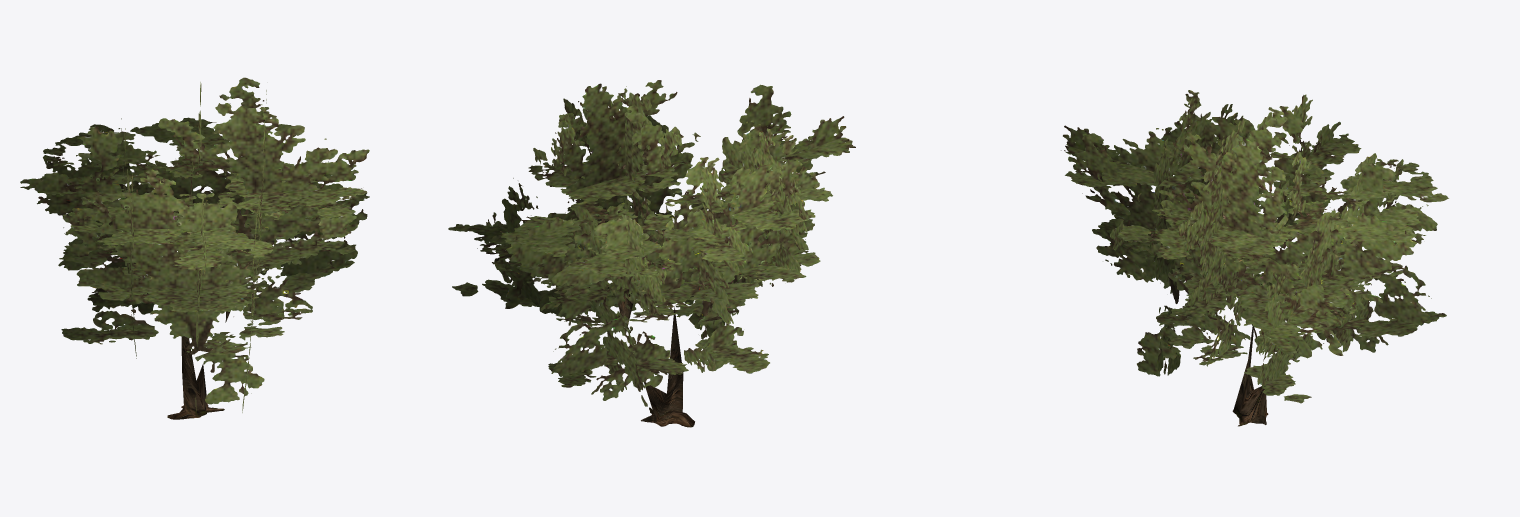
3 renders of one model, left to right at view 1: azimuth 30°, elevation 25°; view 2: azimuth 150°, elevation 25°; view 3: azimuth 270°, elevation 25°, orthographic.
Visible parts, largest first — view 1: jacaranda_tree street foliage, jacaranda_tree park bark; view 2: jacaranda_tree street foliage, jacaranda_tree park bark; view 3: jacaranda_tree street foliage, jacaranda_tree park bark.
Boxes of the visible parts, <box> form: jacaranda_tree street foliage: <box>20,77,369,412</box>; jacaranda_tree park bark: <box>167,311,230,419</box>; jacaranda_tree street foliage: <box>448,80,855,406</box>; jacaranda_tree park bark: <box>618,289,694,427</box>; jacaranda_tree street foliage: <box>1061,90,1448,403</box>; jacaranda_tree park bark: <box>1232,247,1281,426</box>.
Bounding box in the file's own units: 11.63 × 7.97 × 12.01.
Materials: 2 (2 with a texture image).
